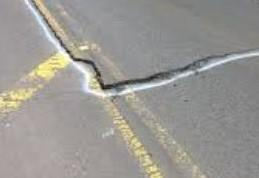crack: (104, 43, 259, 92), (29, 1, 103, 90)
